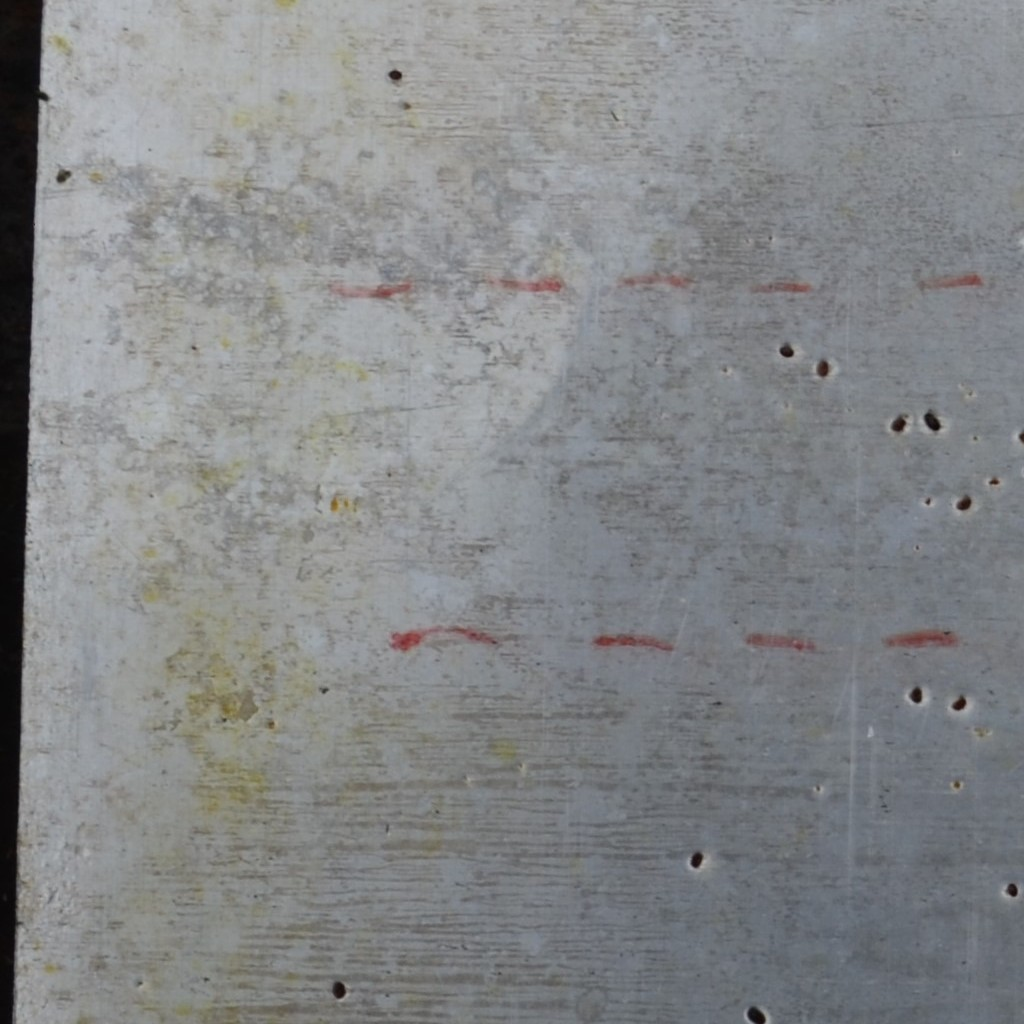varroa: (743, 1000, 769, 1023), (949, 688, 971, 715), (955, 488, 977, 514), (906, 680, 929, 704), (924, 406, 943, 435), (1002, 875, 1022, 900), (56, 160, 75, 186), (330, 977, 349, 1001), (814, 356, 832, 379), (890, 413, 908, 435), (690, 845, 705, 870), (777, 339, 796, 357), (386, 66, 406, 82)
